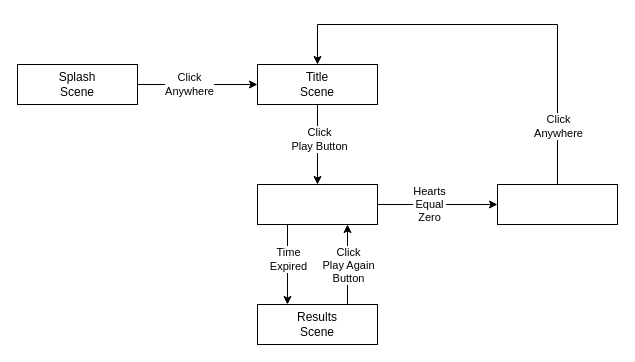
The diagram is 635 pixels wide and 362 high, and some of its shapes have lost their labels. The centre of each missing label's shape, as x and y in pixels:
Lose Scene: (x=557, y=204)
Play Scene: (x=317, y=204)
